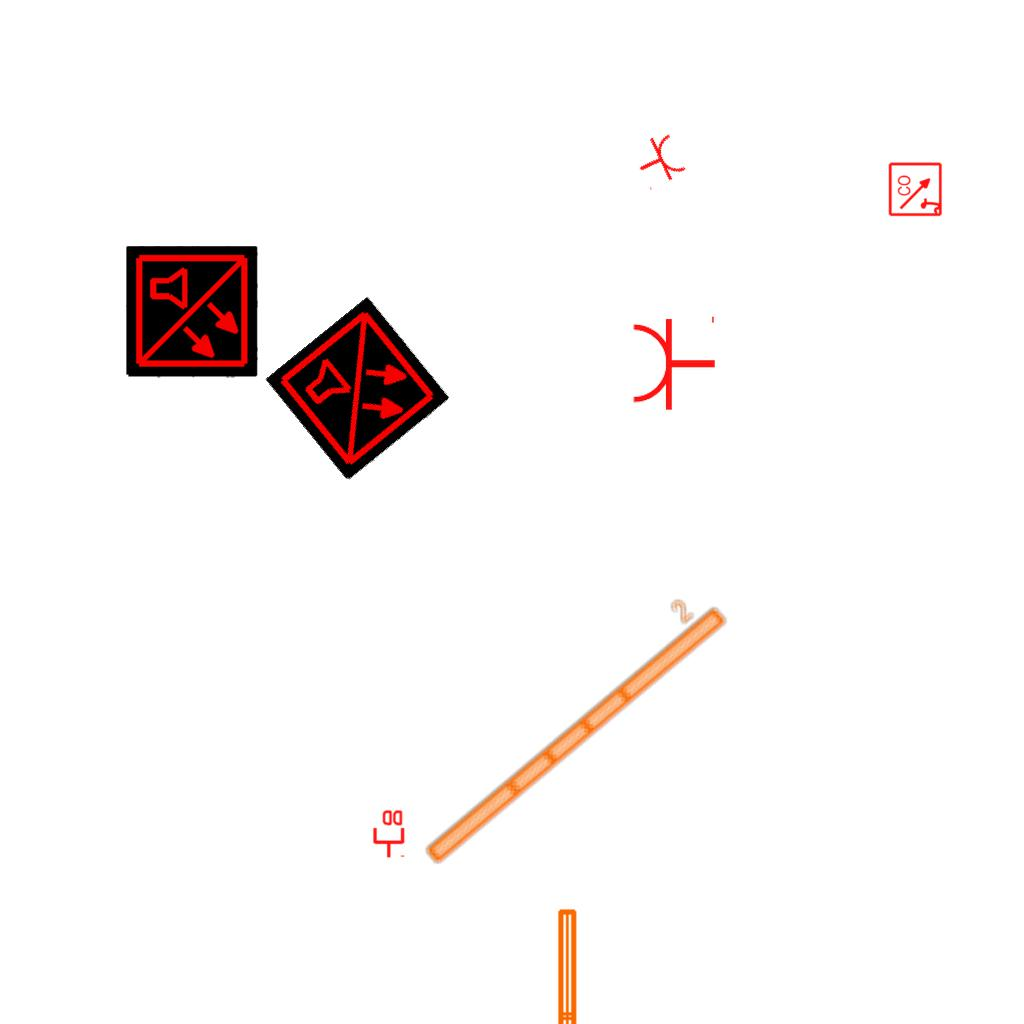Ambulanz_Pendelleuchte_LED: (401, 580, 734, 872), (552, 904, 608, 1024)
Datenanschluss_zweifach: (371, 808, 405, 859)
OKW_Multisensormelder_(Kombination_optischer_Rauch-Kahlenmonoxid_Waerme-Melder): (265, 296, 451, 482), (126, 246, 258, 378)
ROA_Rauchmelder_optisch_mit_Signalgeber_(Sockelsirene): (888, 161, 944, 217)
Schukosteckdose_einfach: (630, 312, 717, 412), (629, 129, 690, 193)
